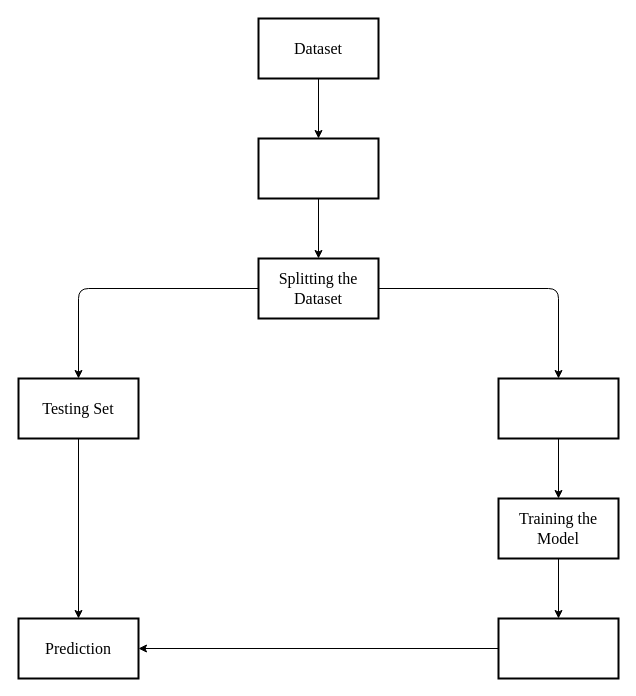
This 636x696 diagram has some shape labels left out. Each missing label, with the centre of its shape:
Pre-Processing: point (318, 168)
Trained Model: point (558, 648)
Training Set: point (558, 408)
